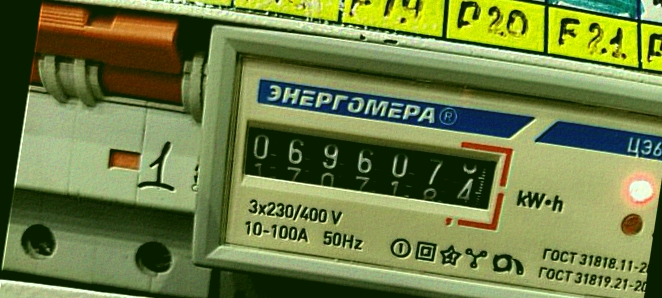0: (248, 130, 273, 162), (388, 148, 412, 180)
4: (452, 174, 475, 204)
6: (282, 134, 308, 167), (354, 144, 377, 175)
7: (423, 154, 444, 186)
9: (319, 140, 341, 172)
screen: (220, 99, 515, 231)
